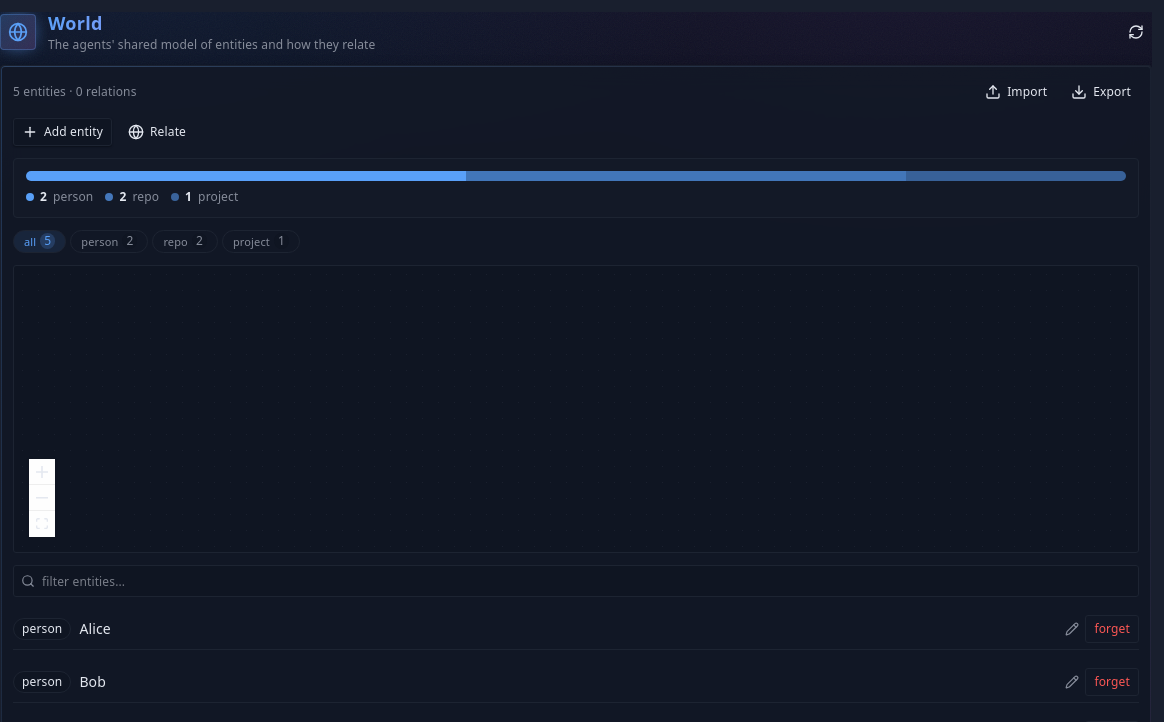
World entity search (M774) › filters the entity list and shows a match count (only when >4 entities)
Expected: the text "2/5" is not shown
Type "repo" into the field labelled "filter entities" at (576, 581), box [13,565,1139,597]
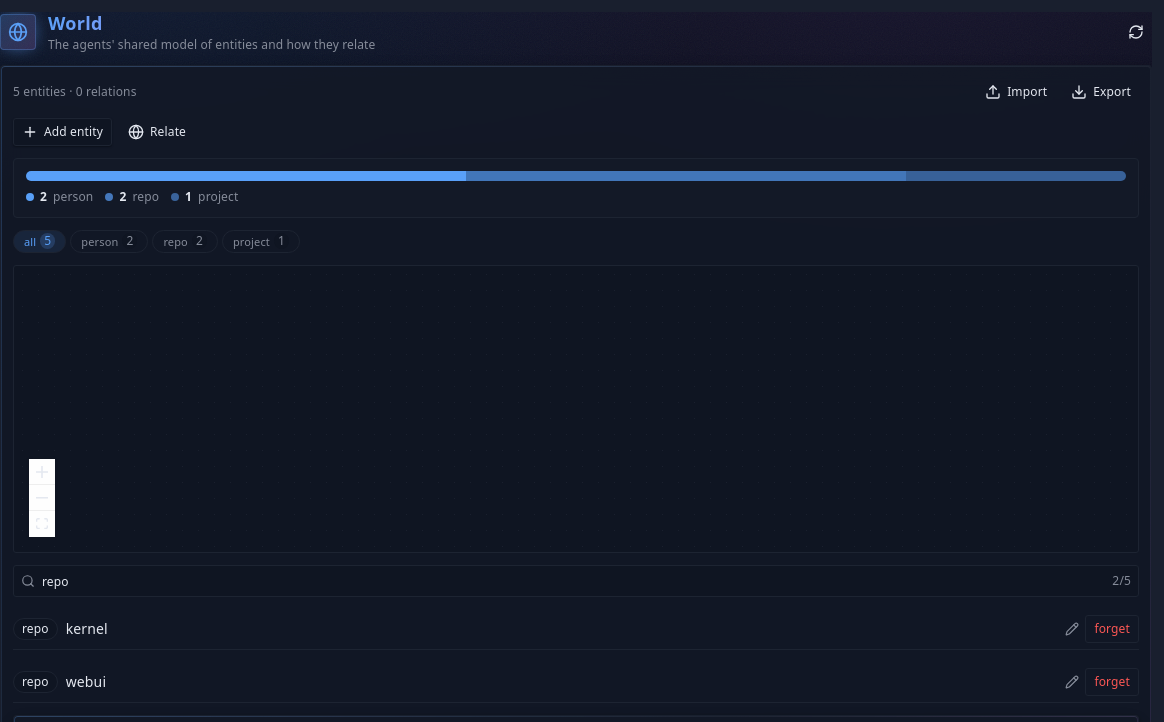
Expected: the text "2/5" is shown, [1112,573,1131,589]
// A non-matching query shows the empty hint and a 0/5 count.
Replace the text in the field named "filter entities" with "zzz" at (576, 581), box [13,565,1139,597]
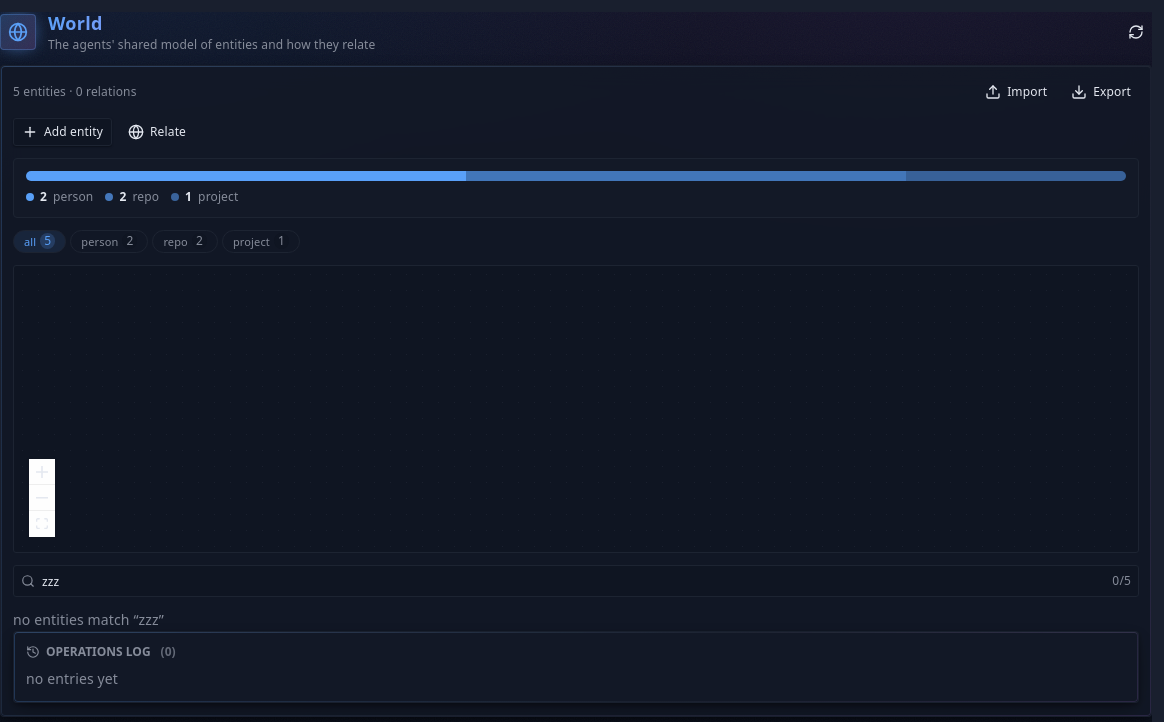
Expected: the text "no entities match “zzz”" is shown, [13,610,164,629]
Expected: the text "0/5" is shown, [1112,573,1131,589]
